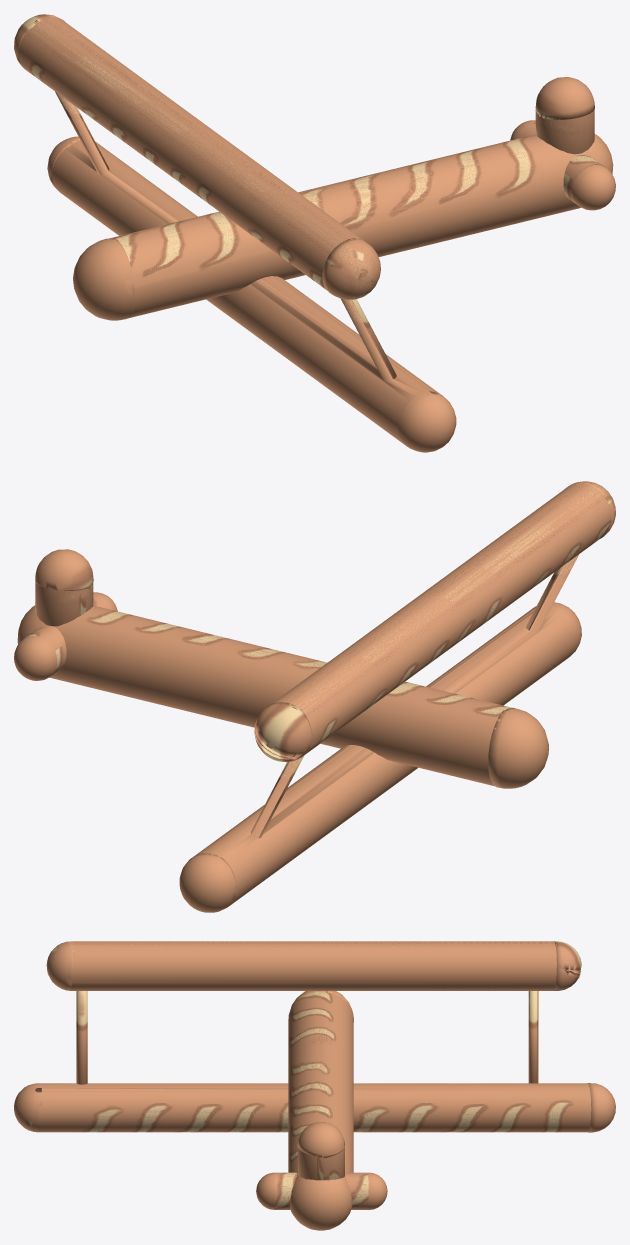
File: Baguette.dae
3 views of the same model, one above another, from view 1: azimuth 30°, elevation 25°; view 2: azimuth 150°, elevation 25°; view 3: azimuth 270°, elevation 25° (orthographic). The views are drawn at different scales.
Visible parts, largest first — view 1: SketchUp (×5); view 2: SketchUp (×5); view 3: SketchUp (×5).
Boxes of the visible parts, left/top/right/bottom form: SketchUp (×5): left=14, top=14, right=615, bottom=452; SketchUp (×5): left=14, top=481, right=615, bottom=912; SketchUp (×5): left=14, top=941, right=615, bottom=1230.
Bounding box in the file's own units: 1162 × 1436 × 436.
